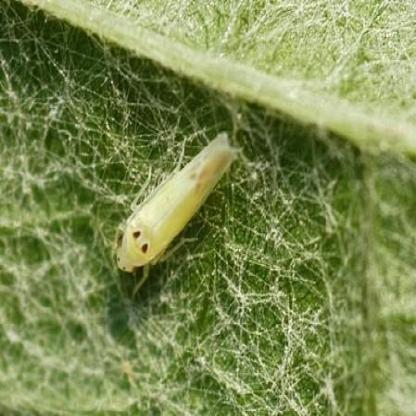Green-Leafhopper: (110, 126, 240, 296)
